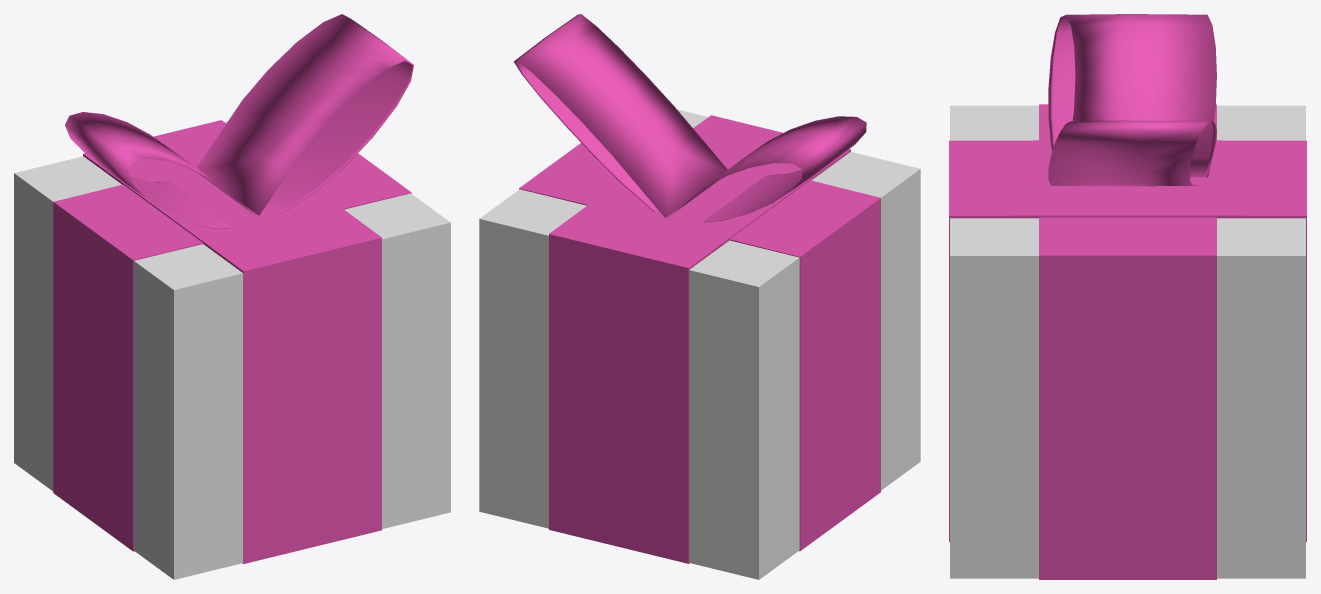
File: Present.fbx
3 renders of one model, left to right at view 1: azimuth 30°, elevation 25°; view 2: azimuth 150°, elevation 25°; view 3: azimuth 270°, elevation 25°, orthographic. The views are drawn at different scales.
Visible parts, largest first — view 1: Torus.001; view 2: Torus.001; view 3: Torus.001.
Part boxes in pixels (x1,y1,x2,y2): Torus.001: (14, 14, 450, 579); Torus.001: (479, 14, 920, 579); Torus.001: (949, 14, 1306, 579).
Bounding box in the file's own units: 73.16 × 99.36 × 69.97.
